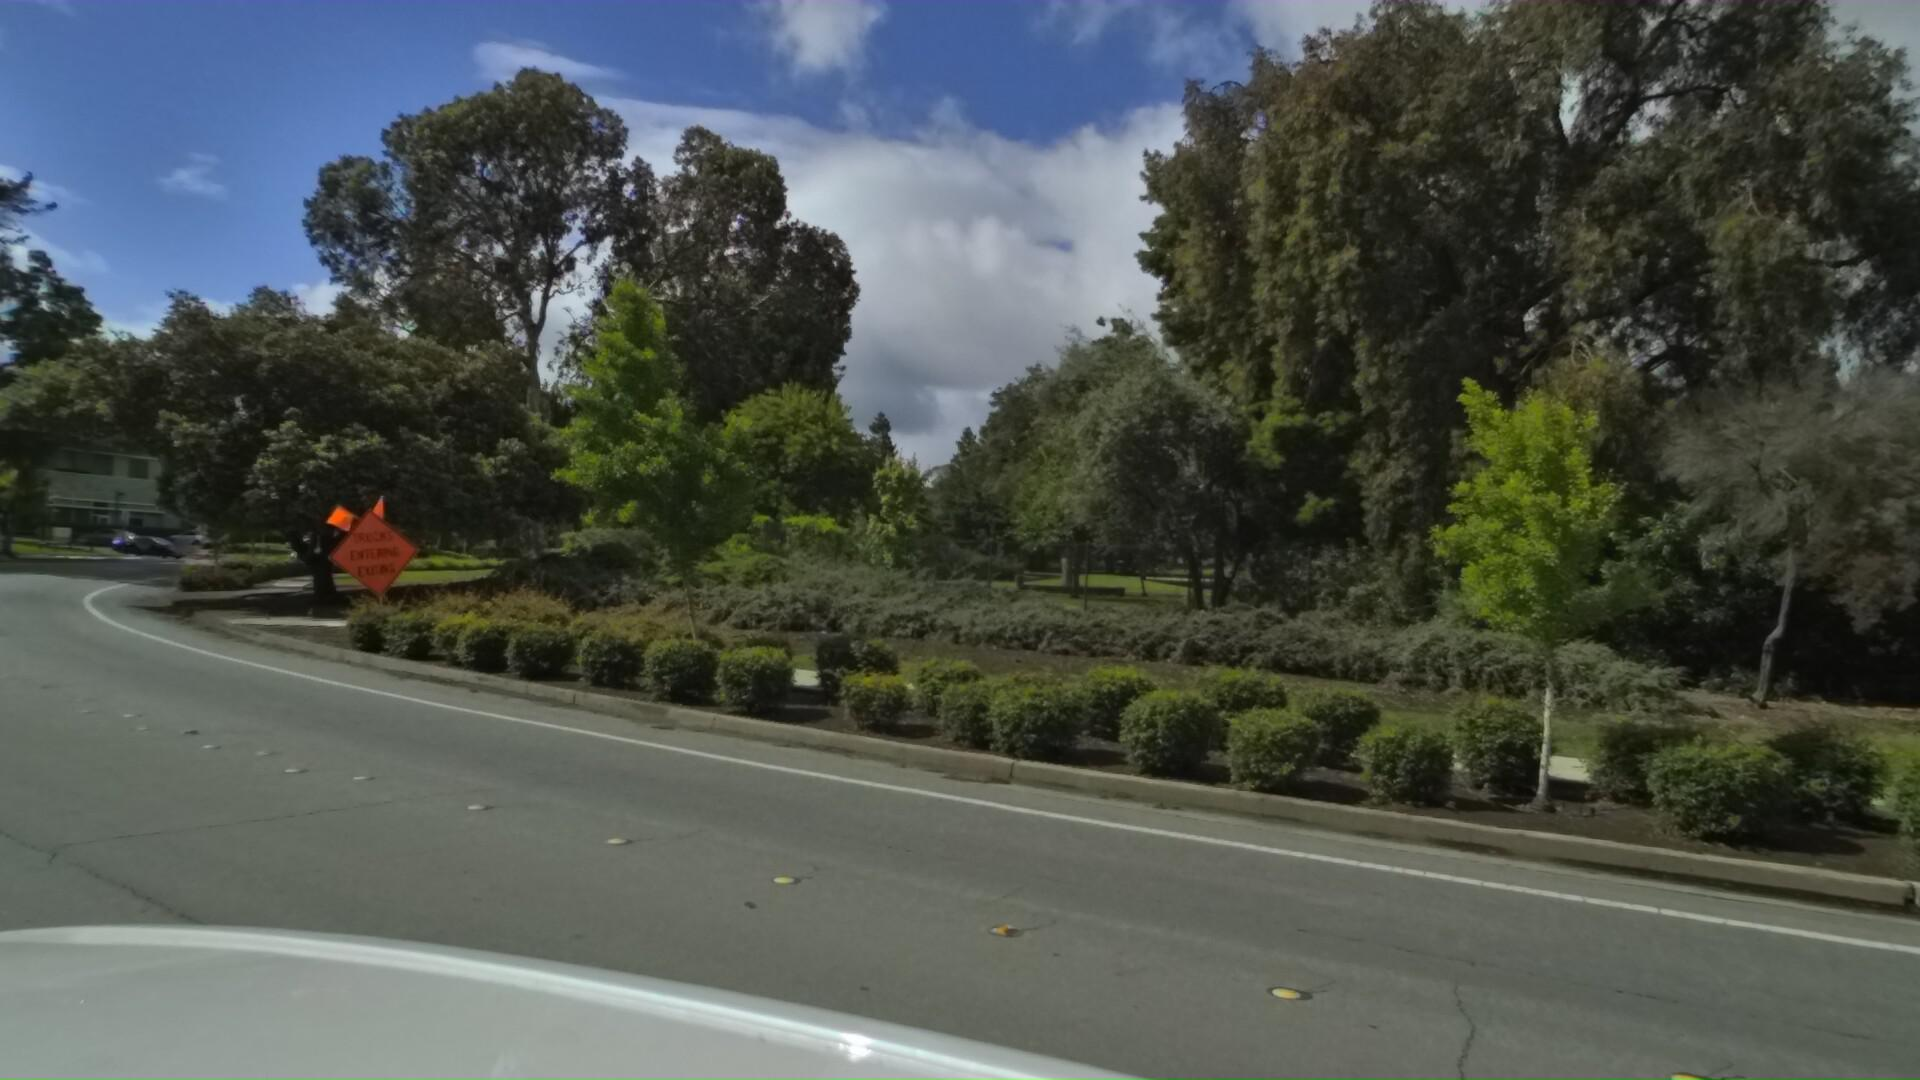car: (0, 495, 13, 567)
